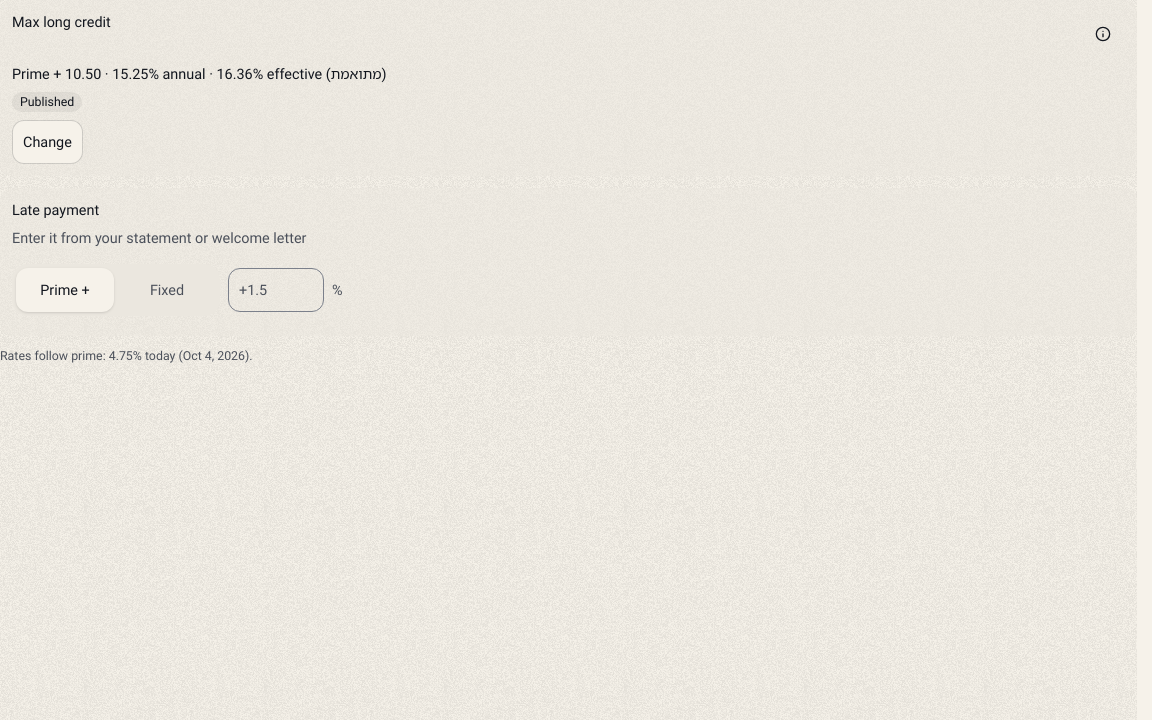
it: rate table › explains the reset rule, the source and the caveat in the info panel
The width and height of the screenshot is (1152, 720).
Click the button named "About Max long credit": (1103, 34) [1081,12,1125,56]
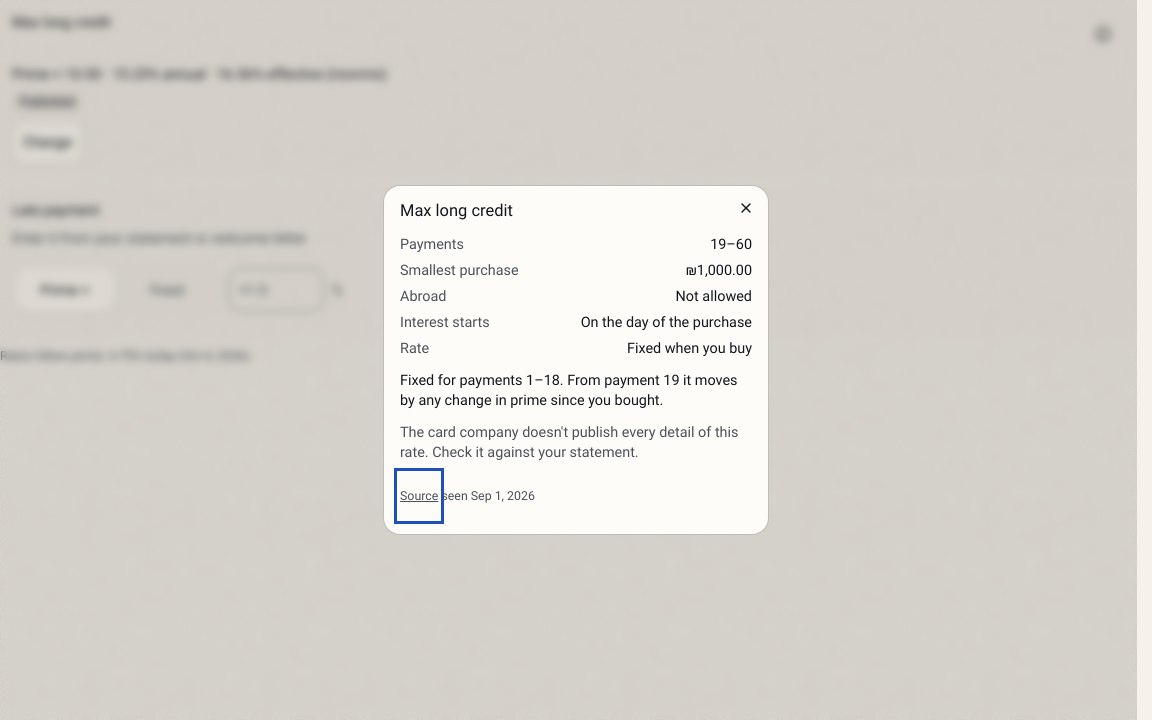
Now the text "Fixed for payments 1–18. From payment 19 it moves by any change in prime since you bought." is shown, box [400,371,738,409]
Now the text "The card company doesn't publish every detail of this rate. Check it against your statement." is shown, box [400,423,738,461]
Now the text "seen Sep 1, 2026" is shown, box [441,488,535,503]
